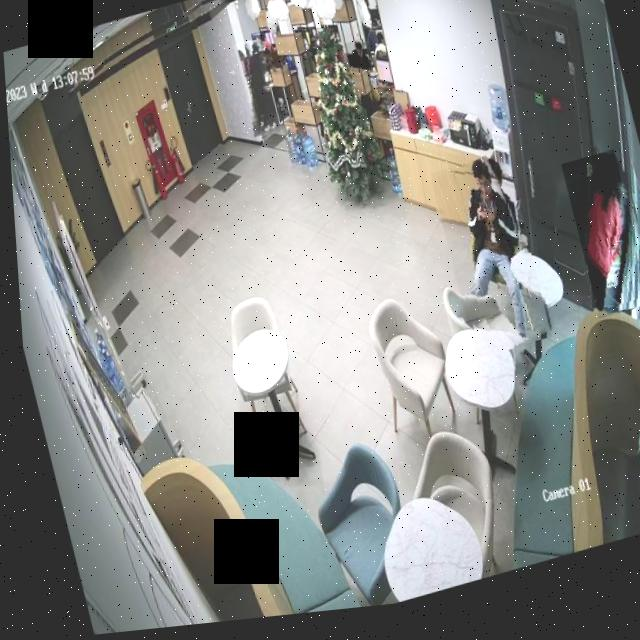person: (426, 159, 547, 371), (557, 160, 640, 333), (233, 41, 280, 145), (343, 45, 370, 83)
